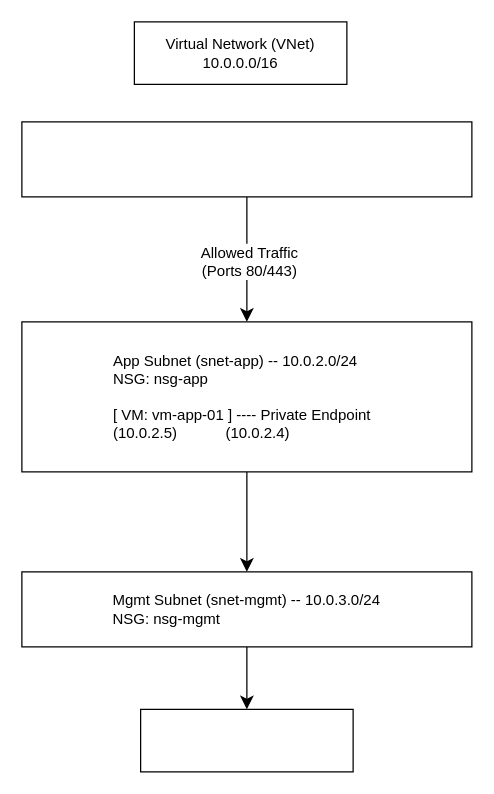
Some shapes in this 494 by 794 pixel diagram are drawn without their labels. Each missing label, with the box of its shape:
Azure Blob Storage Account (Public Access Disable): (139, 708, 353, 772)
Web Subnet (snet-web0 -- 10.0.1.0/24 NSG: nsg-web: (21, 121, 472, 197)
